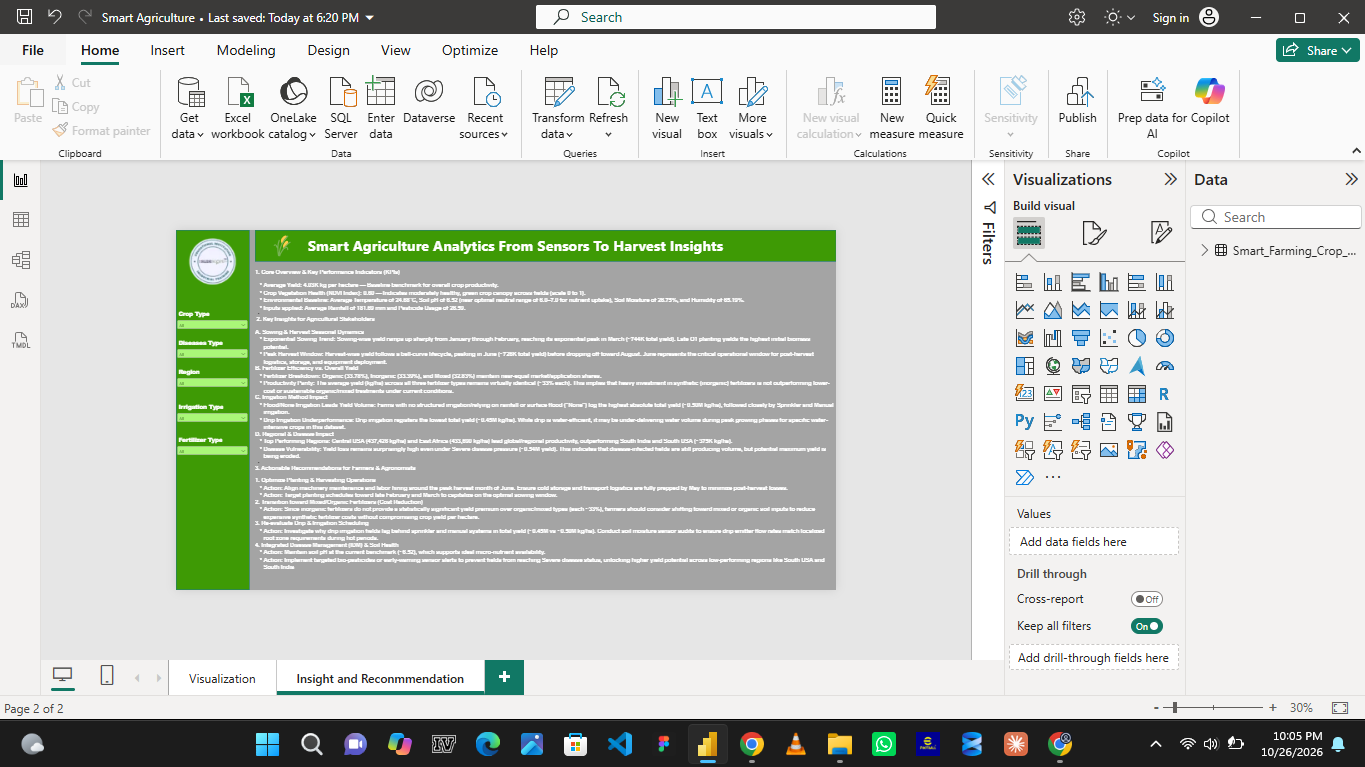

The dashboard page shown, as its layout file describes it:
{"tool":"powerbi","page":{"name":"Insight and Reconmmendation","canvas":[2200,1200],"ordinal":1},"visuals":[{"type":"shape","box":[262.5,0,1937.5,105],"z":0},{"type":"textbox","box":[400,16.7,1463.3,70],"z":1000},{"type":"shape","box":[0,0,245,1200],"z":2000},{"type":"image","box":[17.5,27.5,210,155],"z":12000},{"type":"image","box":[315,15,82.5,72.5],"z":13000},{"type":"slicer","fields":{"Values":["Smart_Farming_Crop_Yield_2024.crop_type"]},"box":[0,265,242.5,75],"z":14000},{"type":"slicer","fields":{"Values":["Smart_Farming_Crop_Yield_2024.crop_disease_status"]},"box":[0,362.5,242.5,75],"z":15000},{"type":"slicer","fields":{"Values":["Smart_Farming_Crop_Yield_2024.region"]},"box":[0,460,242.5,75],"z":16000},{"type":"slicer","fields":{"Values":["Smart_Farming_Crop_Yield_2024.irrigation_type"]},"box":[0,575,242.5,75],"z":17000},{"type":"slicer","fields":{"Values":["Smart_Farming_Crop_Yield_2024.fertilizer_type"]},"box":[0,685,242.5,75],"z":18000},{"type":"textbox","box":[263.3,130,1936.7,1070],"z":18001}]}

Visuals, with their boxes on the page's 2200x1200 design canvas (x1, y1, x2, y2). These are canvas units, not pixel positions in the 1365x767 screenshot, which may show the page scaled, cropped or inside an application window:
shape: [x1=262, y1=0, x2=2200, y2=105]
textbox: [x1=400, y1=17, x2=1863, y2=87]
shape: [x1=0, y1=0, x2=245, y2=1200]
image: [x1=18, y1=28, x2=228, y2=182]
image: [x1=315, y1=15, x2=398, y2=88]
slicer - Smart_Farming_Crop_Yield_2024.crop_type: [x1=0, y1=265, x2=242, y2=340]
slicer - Smart_Farming_Crop_Yield_2024.crop_disease_status: [x1=0, y1=362, x2=242, y2=438]
slicer - Smart_Farming_Crop_Yield_2024.region: [x1=0, y1=460, x2=242, y2=535]
slicer - Smart_Farming_Crop_Yield_2024.irrigation_type: [x1=0, y1=575, x2=242, y2=650]
slicer - Smart_Farming_Crop_Yield_2024.fertilizer_type: [x1=0, y1=685, x2=242, y2=760]
textbox: [x1=263, y1=130, x2=2200, y2=1200]
